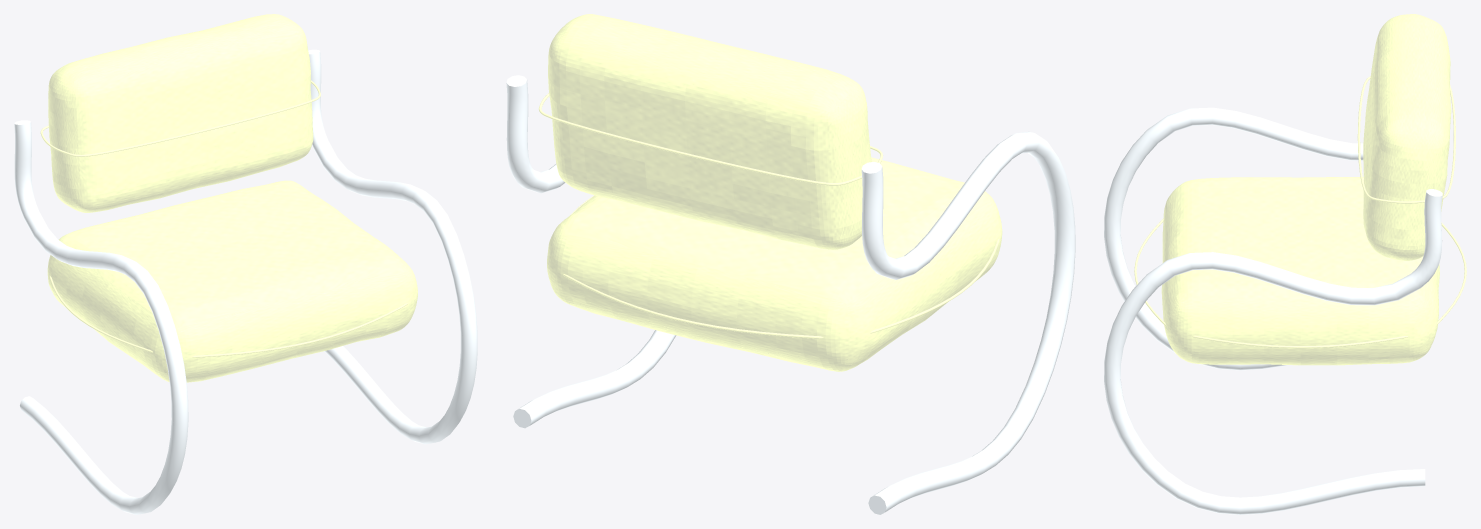
The model's file is ref06_06.glb.
3 renders of one model, left to right at view 1: azimuth 30°, elevation 25°; view 2: azimuth 150°, elevation 25°; view 3: azimuth 270°, elevation 25°, orthographic. The views are drawn at different scales.
Visible parts, largest first — view 1: ref06_06; view 2: ref06_06; view 3: ref06_06.
Boxes of the visible parts, bbox=[...] form: ref06_06: bbox=[14, 14, 477, 514]; ref06_06: bbox=[506, 14, 1075, 514]; ref06_06: bbox=[1104, 14, 1466, 514].
Size of the model in its own units: 0.7818 by 0.902 by 0.7853.
Materials: 2 (1 with a texture image).
